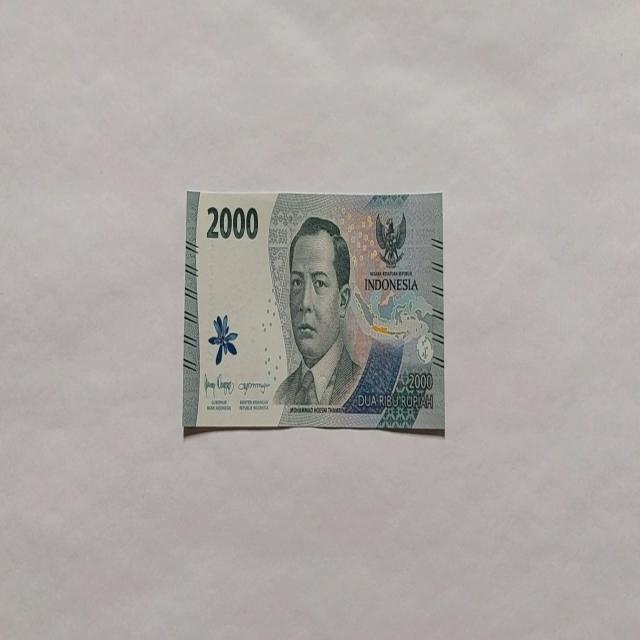dua ribu rupiah: (182, 188, 445, 436), (271, 214, 363, 411)
